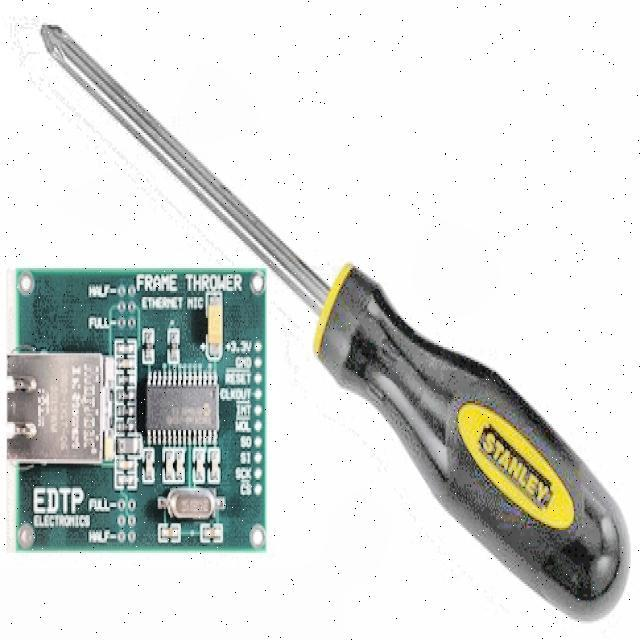screwdriver: (44, 27, 630, 624)
